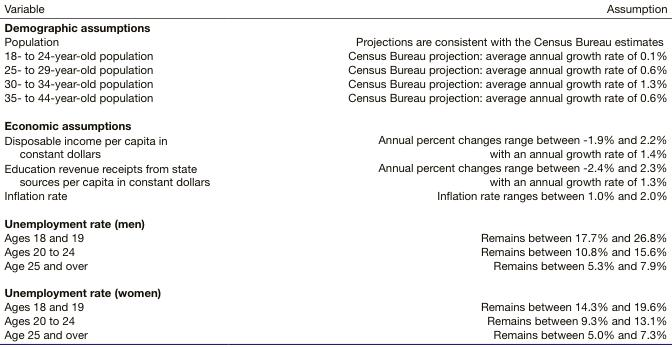table: (3, 3, 666, 340)
table column: (278, 3, 666, 340), (3, 3, 278, 340)
table column header: (3, 3, 666, 18)
table projected row header: (3, 209, 666, 230), (3, 279, 666, 300), (3, 112, 666, 132), (3, 18, 666, 35)
table row: (3, 132, 666, 160), (3, 160, 666, 188), (3, 91, 666, 112), (3, 188, 666, 209), (3, 209, 666, 230), (3, 258, 666, 279), (3, 279, 666, 300), (3, 112, 666, 132), (3, 18, 666, 35), (3, 3, 666, 18), (3, 35, 666, 49), (3, 49, 666, 63), (3, 63, 666, 77), (3, 77, 666, 91), (3, 230, 666, 244), (3, 244, 666, 258), (3, 300, 666, 314), (3, 314, 666, 328), (3, 328, 666, 340)
